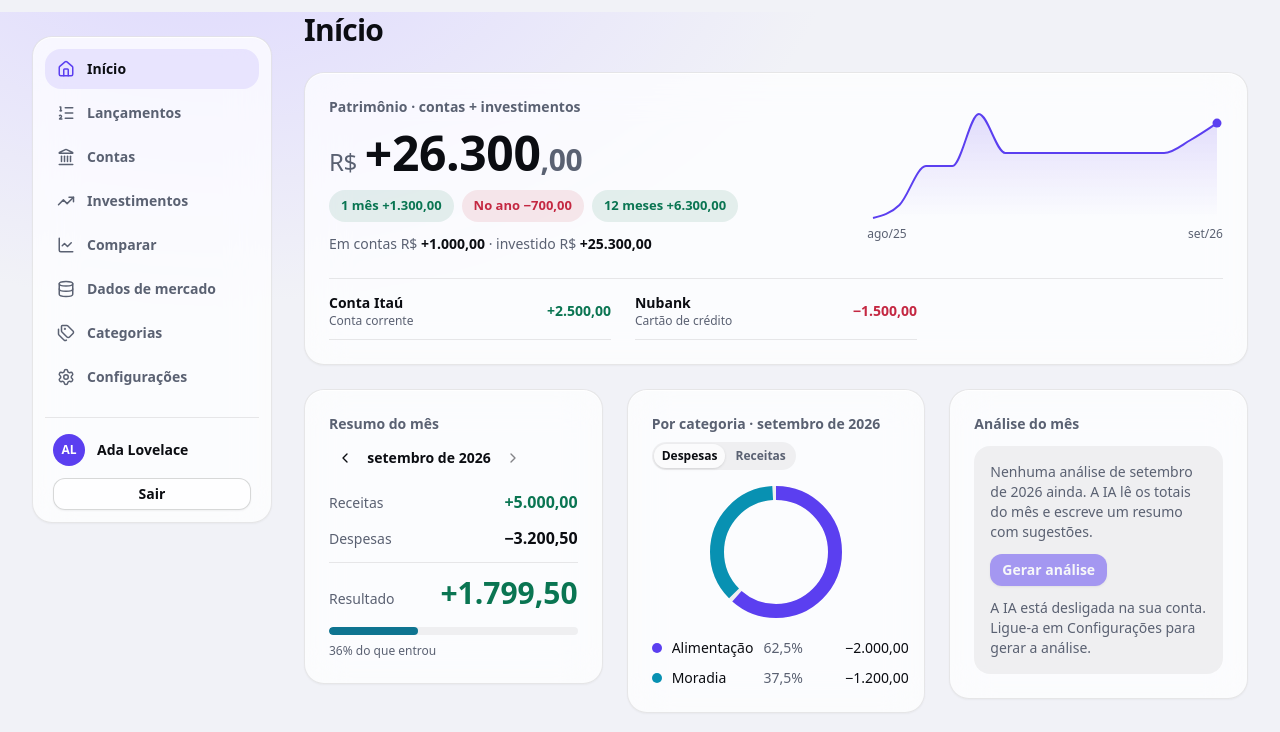
DashboardPage › changes the month query parameter with the month selector
Check: the text with test id "selected-month" reads "setembro de 2026", box top-left (367, 448), bottom-right (491, 466)
Click the button named "Mês anterior": (345, 458) top-left (329, 442), bottom-right (361, 474)
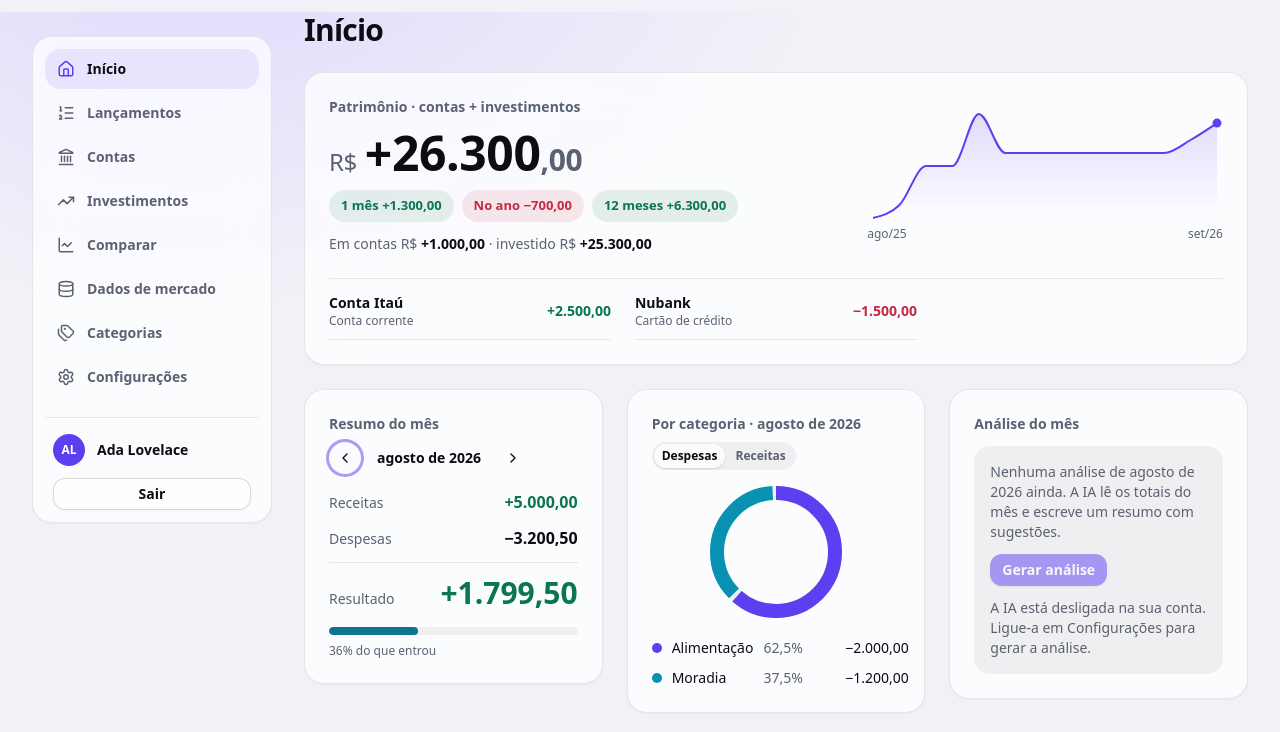
Check: the button named "Próximo mês" is enabled, box top-left (497, 442), bottom-right (529, 474)
Check: the text with test id "selected-month" reads "agosto de 2026", box top-left (377, 448), bottom-right (481, 466)
